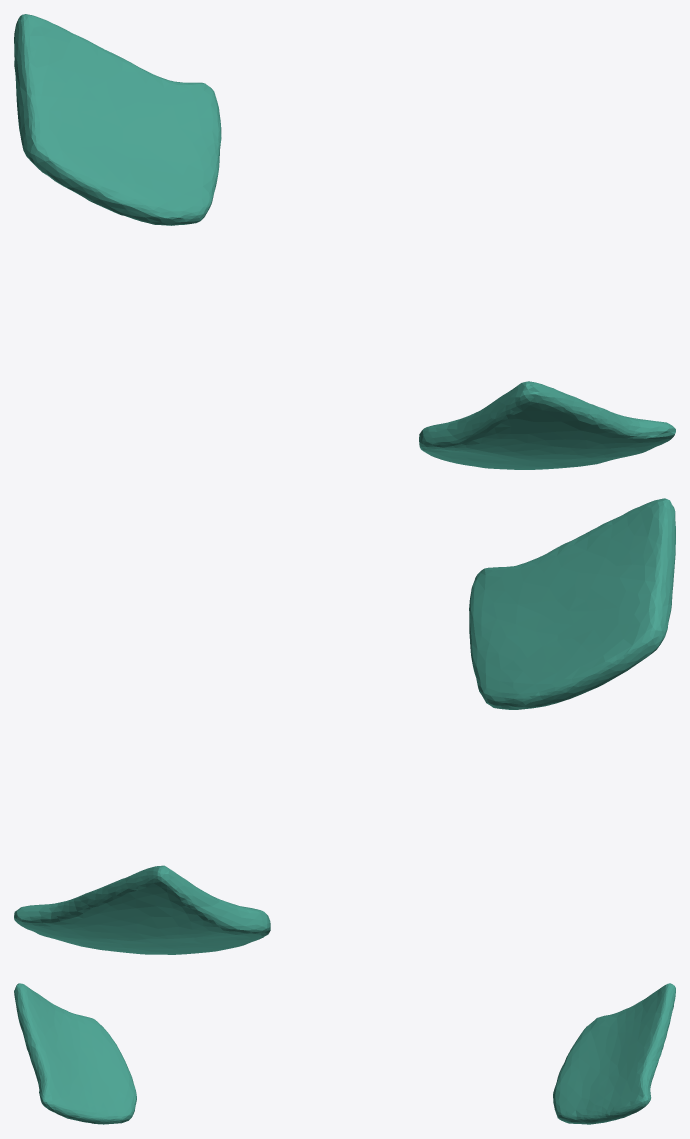
3 views of the same model, one above another, from view 1: azimuth 30°, elevation 25°; view 2: azimuth 150°, elevation 25°; view 3: azimuth 270°, elevation 25° (orthographic). The views are drawn at different scales.
Parts seen in each view (by area): view 1: 1047.obj; view 2: 1047.obj; view 3: 1047.obj.
Part boxes in pixels (x1,y1,x2,y2): 1047.obj: [14, 14, 675, 469]; 1047.obj: [14, 498, 675, 954]; 1047.obj: [14, 983, 675, 1124].
Size of the model in its own units: 2033 by 1483 by 8175.
